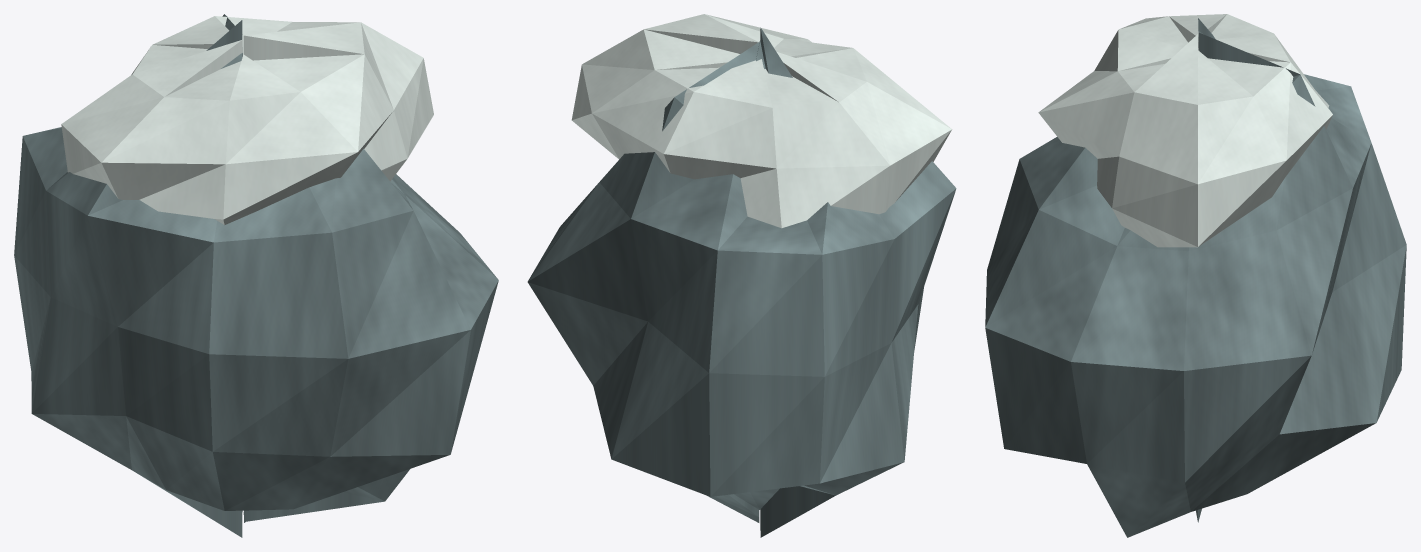
File: snow_rock_02.glb
The picture shows the model from 3 angles, left to right: view 1: azimuth 30°, elevation 25°; view 2: azimuth 150°, elevation 25°; view 3: azimuth 270°, elevation 25°; orthographic projection. The views are drawn at different scales.
Visible parts, largest first — view 1: rock, snow_cap; view 2: rock, snow_cap; view 3: rock, snow_cap.
Boxes of the visible parts, x1,y1,x2,y2 form: rock: [14, 14, 498, 537]; snow_cap: [61, 16, 433, 224]; rock: [527, 27, 956, 537]; snow_cap: [571, 14, 951, 228]; rock: [985, 18, 1406, 537]; snow_cap: [1038, 14, 1332, 247].
Bounding box in the file's own units: 3.84 × 4.89 × 3.7.
Materials: 2 (2 with a texture image).
